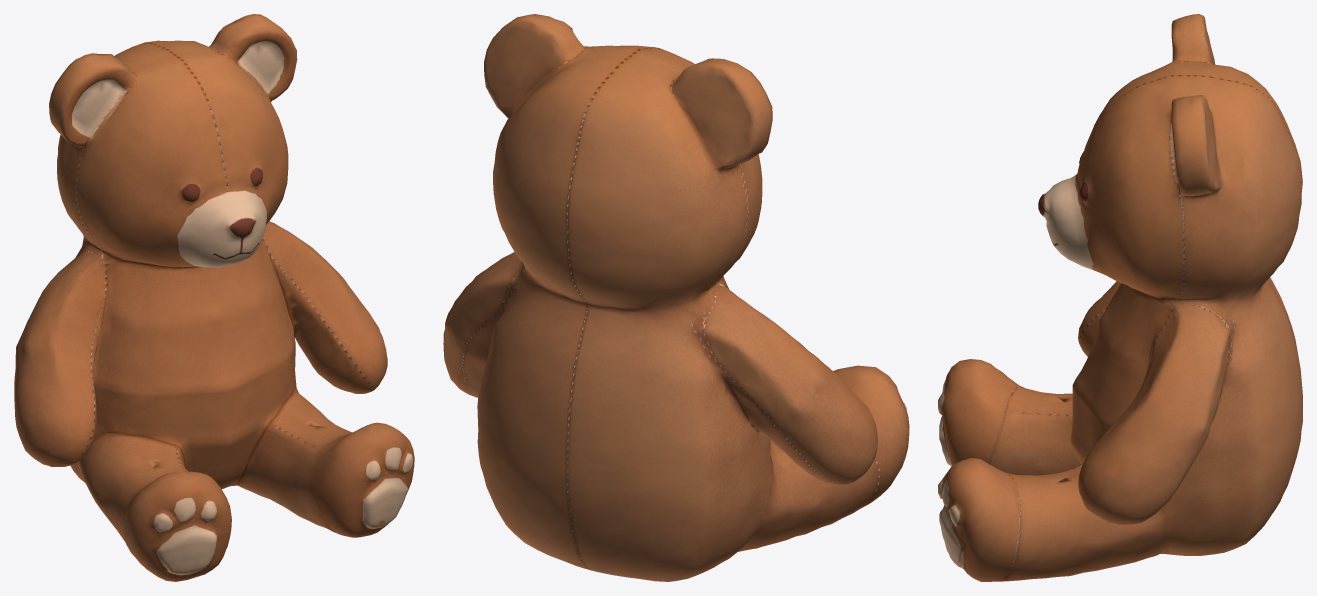
Rendered from Meshy_AI_Low_Poly_Teddy_Bear_0509135111_texture.fbx.
The picture shows the model from 3 angles, left to right: view 1: azimuth 30°, elevation 25°; view 2: azimuth 150°, elevation 25°; view 3: azimuth 270°, elevation 25°; orthographic projection. The views are drawn at different scales.
Parts seen in each view (by area): view 1: Mesh_0; view 2: Mesh_0; view 3: Mesh_0.
Part boxes in pixels (x1,y1,x2,y2): Mesh_0: (14,14,414,581); Mesh_0: (443,14,909,581); Mesh_0: (938,14,1302,581).
Bounding box in the file's own units: 158 × 191 × 133.
Materials: 1 (1 with a texture image).
